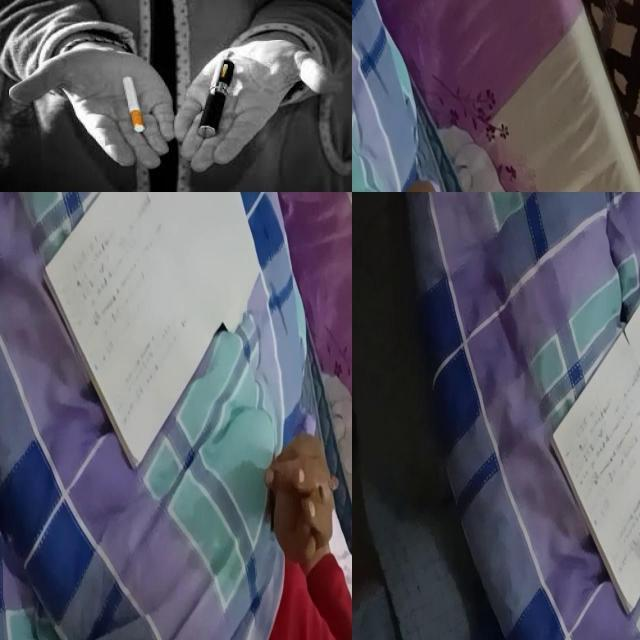cigarette: (122, 75, 146, 133), (301, 476, 339, 512)
